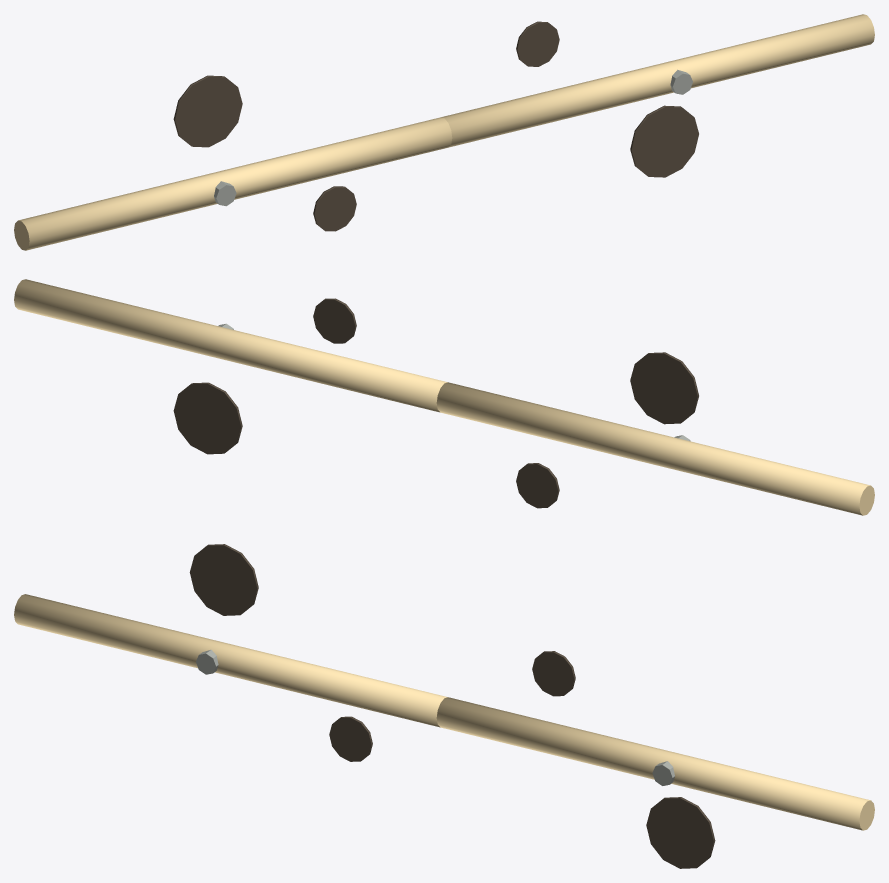
Rendered from drip_m10.obj.
3 renders of one model, top to bottom at view 1: azimuth 30°, elevation 25°; view 2: azimuth 150°, elevation 25°; view 3: azimuth 330°, elevation 25°, orthographic.
Parts seen in each view (by area): view 1: hose8, hose2, wet2_0, wet8_0, wet8_1, wet2_1; view 2: hose8, hose2, wet8_0, wet2_0, wet2_1, wet8_1; view 3: hose2, hose8, wet2_0, wet8_0, wet2_1, wet8_1.
Part boxes in pixels (x1=…): hose8: x1=14, y1=117, x2=452, y2=250; hose2: x1=441, y1=14, x2=874, y2=147; wet2_0: x1=630, y1=105, x2=698, y2=177; wet8_0: x1=173, y1=75, x2=242, y2=147; wet8_1: x1=313, y1=186, x2=356, y2=231; wet2_1: x1=516, y1=21, x2=559, y2=66; hose8: x1=436, y1=382, x2=874, y2=515; hose2: x1=14, y1=279, x2=447, y2=412; wet8_0: x1=630, y1=352, x2=698, y2=424; wet2_0: x1=173, y1=382, x2=242, y2=454; wet2_1: x1=313, y1=298, x2=356, y2=343; wet8_1: x1=516, y1=463, x2=559, y2=508; hose2: x1=436, y1=697, x2=874, y2=830; hose8: x1=14, y1=594, x2=447, y2=727; wet2_0: x1=646, y1=797, x2=715, y2=868; wet8_0: x1=189, y1=544, x2=258, y2=615; wet2_1: x1=532, y1=651, x2=575, y2=696; wet8_1: x1=329, y1=716, x2=372, y2=761.
Bounding box in the file's own units: 1 × 0.24 × 0.039.
3 materials, 3 textured.
